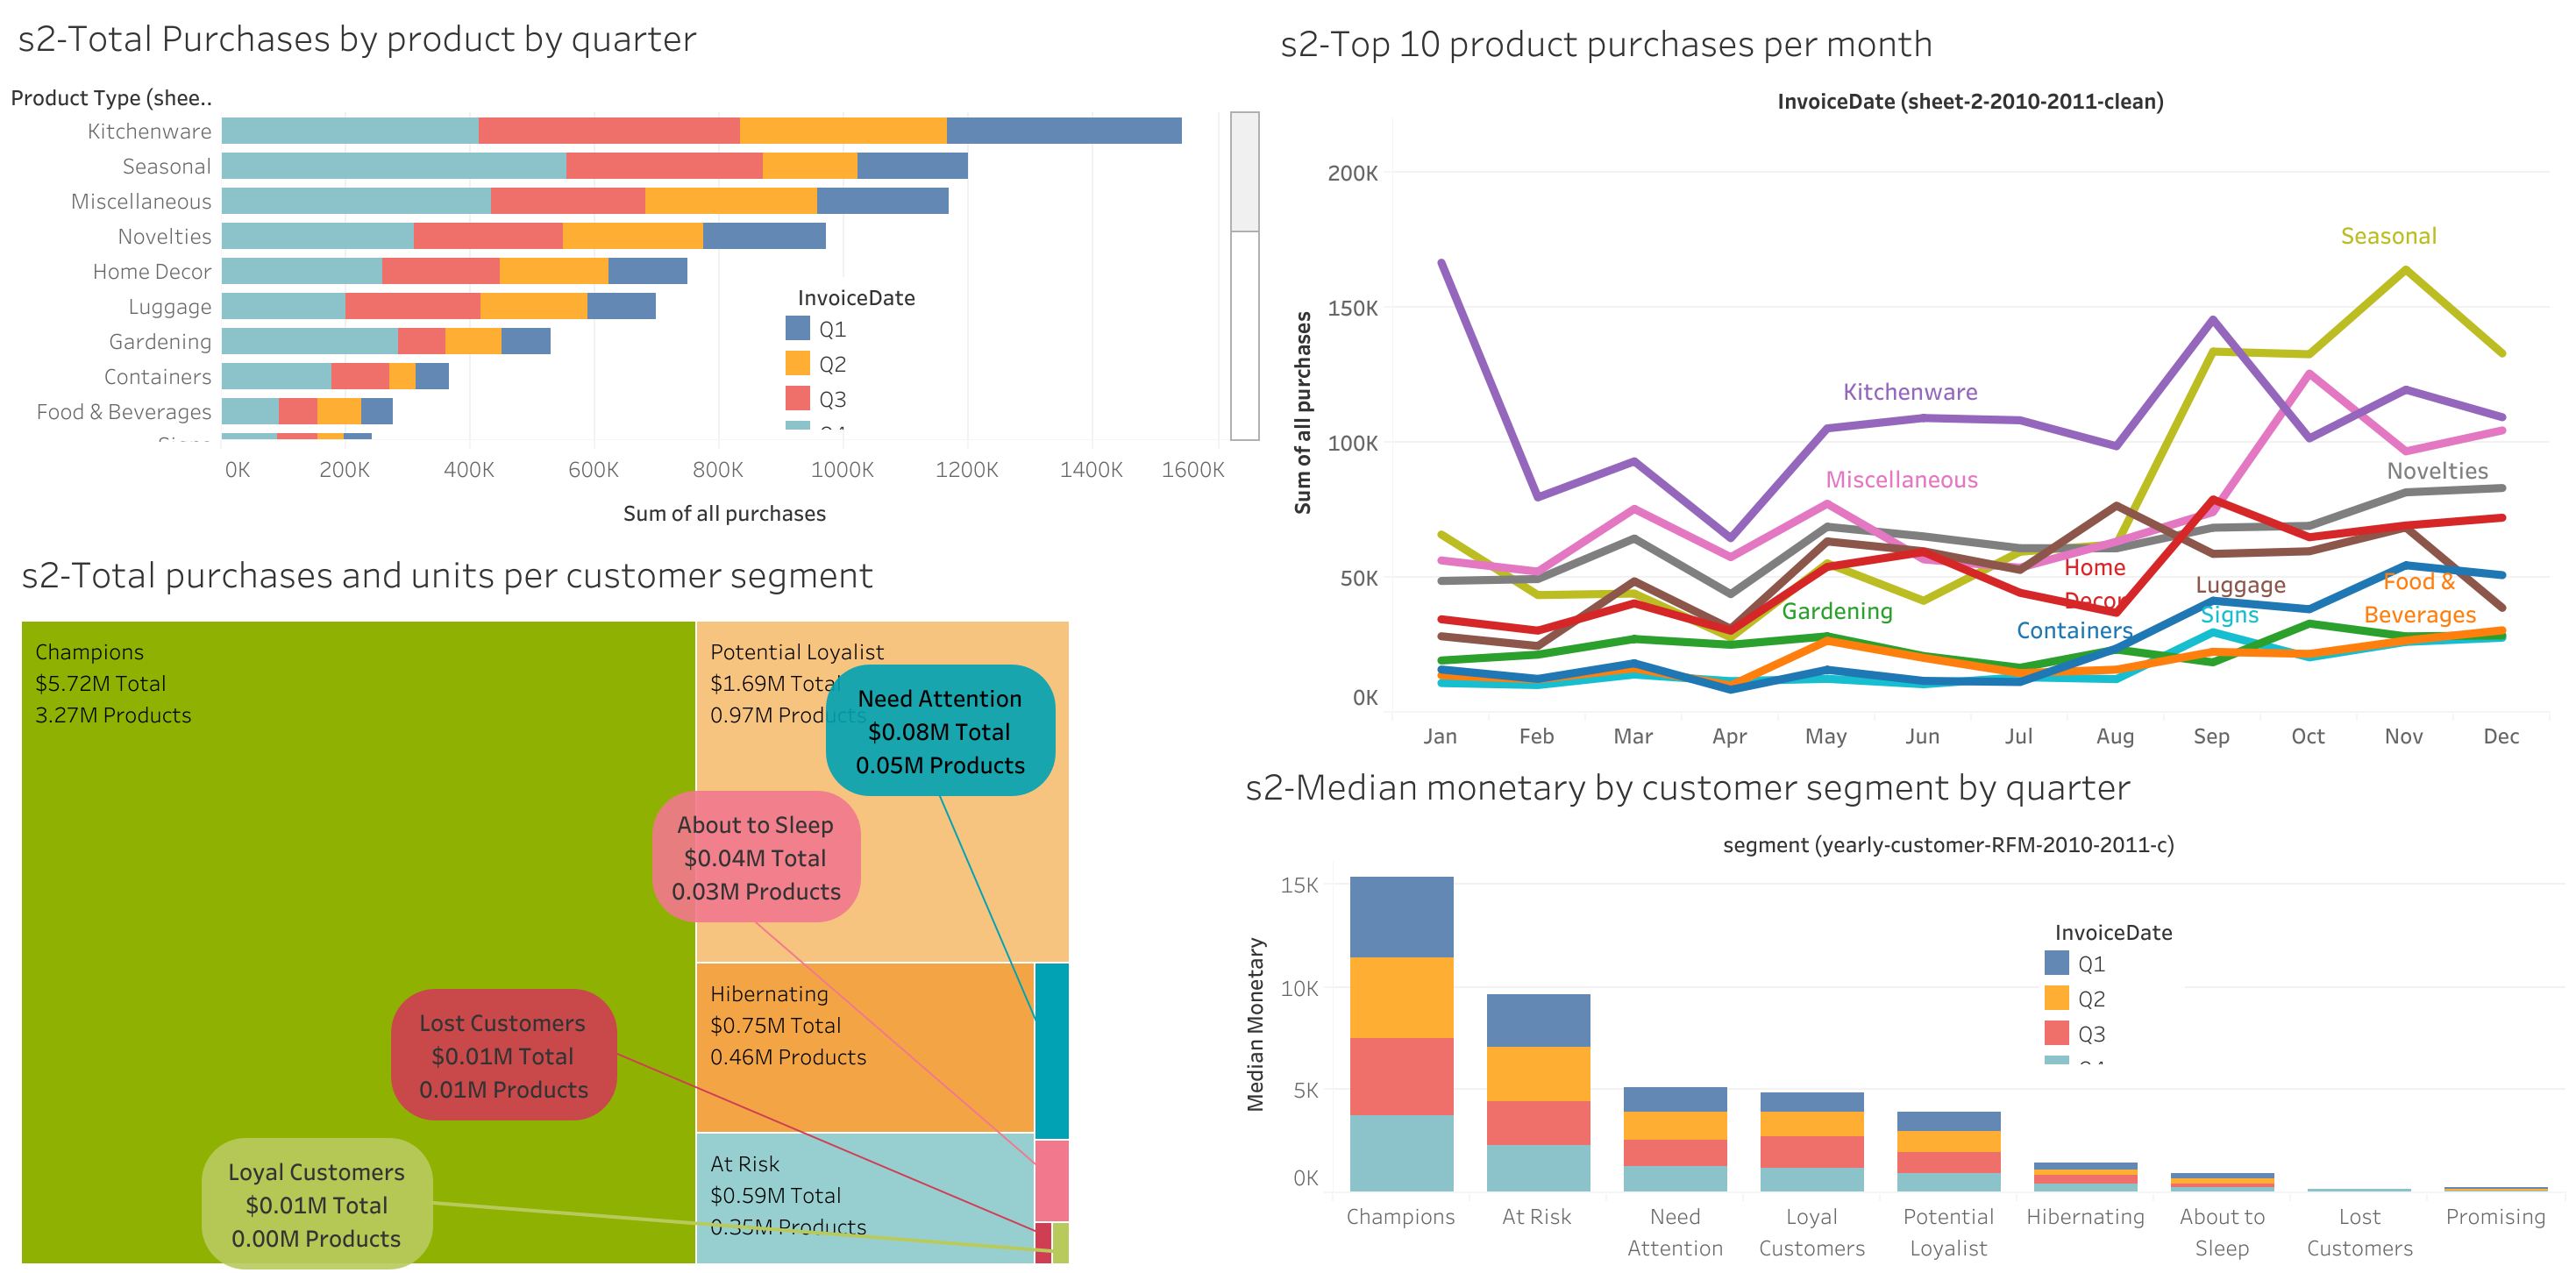

Layout of this report page (visuals, bound fields, positions):
{"tool":"tableau","page":{"name":"sheet-2-dashboard-2010-2011","canvas":[1000,1000],"units":"permille","ordinal":1},"visuals":[{"type":"worksheet","title":"s2-Total Purchases by product by quarter","mark":"Automatic","rows":["Product Type (sheet-2-2010-2011-clean)"],"cols":["TotalPrice (sheet-2-2010-2011-clean)"],"box":[4.1,1.2,485.4,421.8]},{"type":"worksheet","title":"s2-Top 10 product purchases per month","mark":"Line","rows":["TotalPrice (sheet-2-2010-2011-clean)"],"cols":["InvoiceDate (sheet-2-2010-2011-clean)"],"box":[494.2,4.9,494.9,584.4]},{"type":"legend","title":"s2-Total Purchases by product by quarter","param":"[federated.0kbcoit1qrj26a14op06j1ra9u5n].[qr:InvoiceDate (sheet-2-2010-2011-clea","box":[302.9,217.6,57.9,119.8]},{"type":"worksheet","title":"s2-Total purchases and units per customer segment","mark":"Automatic","box":[5.5,421.8,480.6,577]},{"type":"worksheet","title":"s2-Median monetary by customer segment by quarter","mark":"Automatic","rows":["Monetary (yearly-customer-RFM-2010-2011-c)"],"cols":["segment (yearly-customer-RFM-2010-2011-c)"],"box":[480.6,589.2,514.6,401]},{"type":"legend","title":"s2-Median monetary by customer segment by quarter","param":"[federated.0kbcoit1qrj26a14op06j1ra9u5n].[qr:InvoiceDate (sheet-2-2010-2011-clea","box":[791,715.2,56.5,119.8]}]}

Visuals, with their boxes on the dashboard's canvas, which has no fixed pixel size, in thousandths of its width and height (x1, y1, x2, y2). These are canvas units, not pixel positions in the 2576x1273 screenshot, which may show the page scaled, cropped or inside an application window:
"s2-Total Purchases by product by quarter" worksheet: {"x1": 4, "y1": 1, "x2": 490, "y2": 423}
"s2-Top 10 product purchases per month" worksheet (Line marks): {"x1": 494, "y1": 5, "x2": 989, "y2": 589}
"s2-Total Purchases by product by quarter" legend: {"x1": 303, "y1": 218, "x2": 361, "y2": 337}
"s2-Total purchases and units per customer segment" worksheet: {"x1": 6, "y1": 422, "x2": 486, "y2": 999}
"s2-Median monetary by customer segment by quarter" worksheet: {"x1": 481, "y1": 589, "x2": 995, "y2": 990}
"s2-Median monetary by customer segment by quarter" legend: {"x1": 791, "y1": 715, "x2": 848, "y2": 835}
